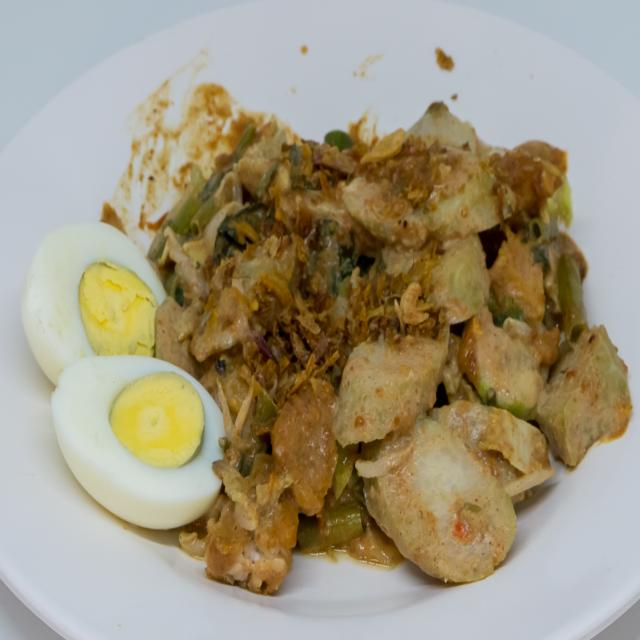Gado-Gado: (18, 84, 634, 602)
